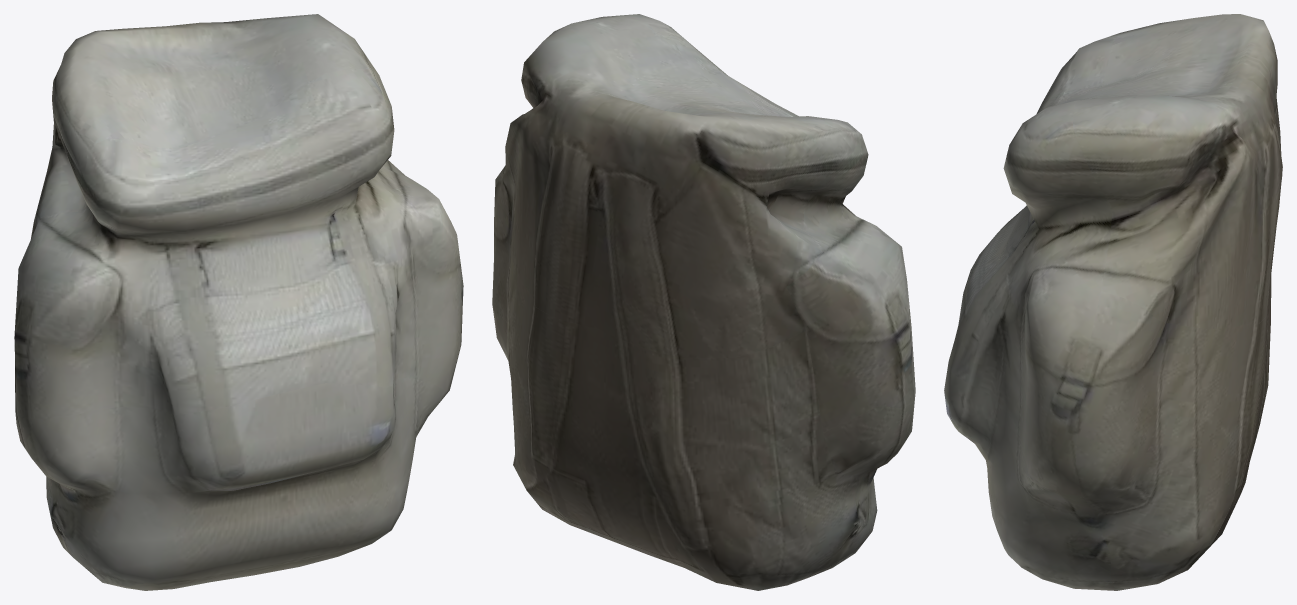
File: zaino_a.glb
The picture shows the model from 3 angles, left to right: view 1: azimuth 30°, elevation 25°; view 2: azimuth 150°, elevation 25°; view 3: azimuth 270°, elevation 25°; orthographic projection.
Visible parts, largest first — view 1: ZBrush_defualt_group; view 2: ZBrush_defualt_group; view 3: ZBrush_defualt_group.
Boxes of the visible parts, <box> form: ZBrush_defualt_group: <box>14,14,463,590</box>; ZBrush_defualt_group: <box>492,14,915,590</box>; ZBrush_defualt_group: <box>944,14,1282,590</box>.
Size of the model in its own units: 0.7502 by 0.8504 by 0.5238.
1 material, 1 textured.
